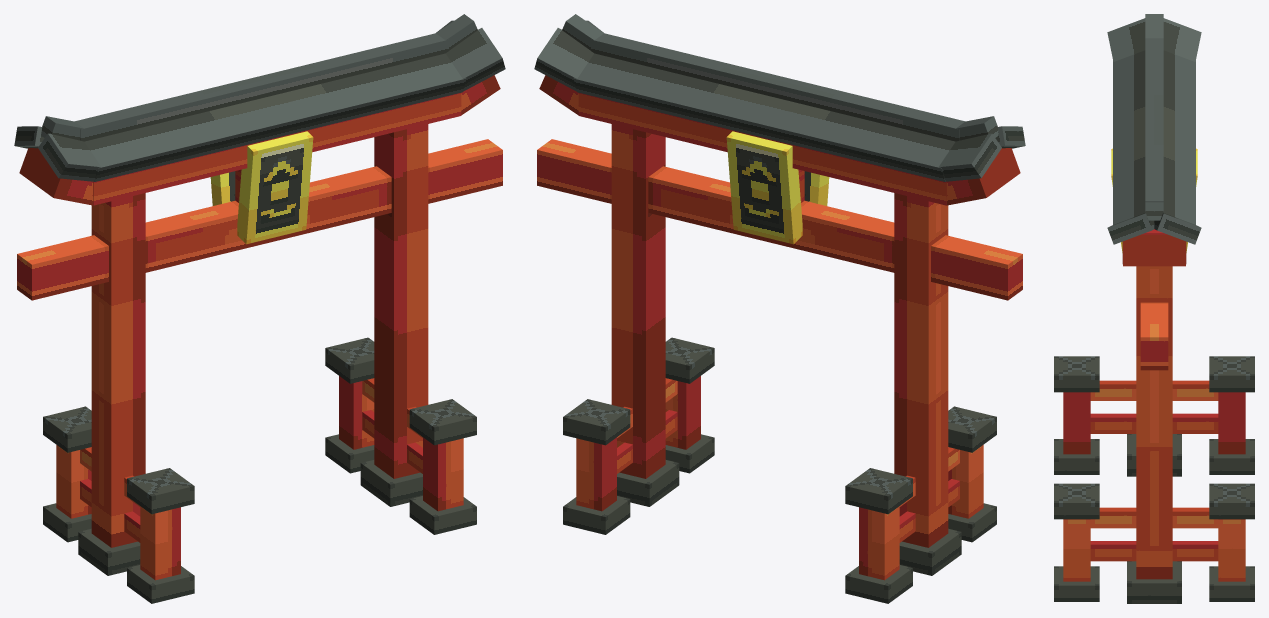
The model's file is torii-portal.gltf.
The picture shows the model from 3 angles, left to right: view 1: azimuth 30°, elevation 25°; view 2: azimuth 150°, elevation 25°; view 3: azimuth 270°, elevation 25°; orthographic projection. The views are drawn at different scales.
Parts seen in each view (by area): view 1: cube (×28); view 2: cube (×28); view 3: cube (×34).
Boxes of the visible parts, box(x1,y1,x2,y2) form: cube (×28): box(17, 14, 505, 603); cube (×28): box(534, 14, 1022, 603); cube (×34): box(1054, 14, 1254, 603).
Bounding box in the file's own units: 6.88 × 6.36 × 2.75.
Materials: 1 (1 with a texture image).
